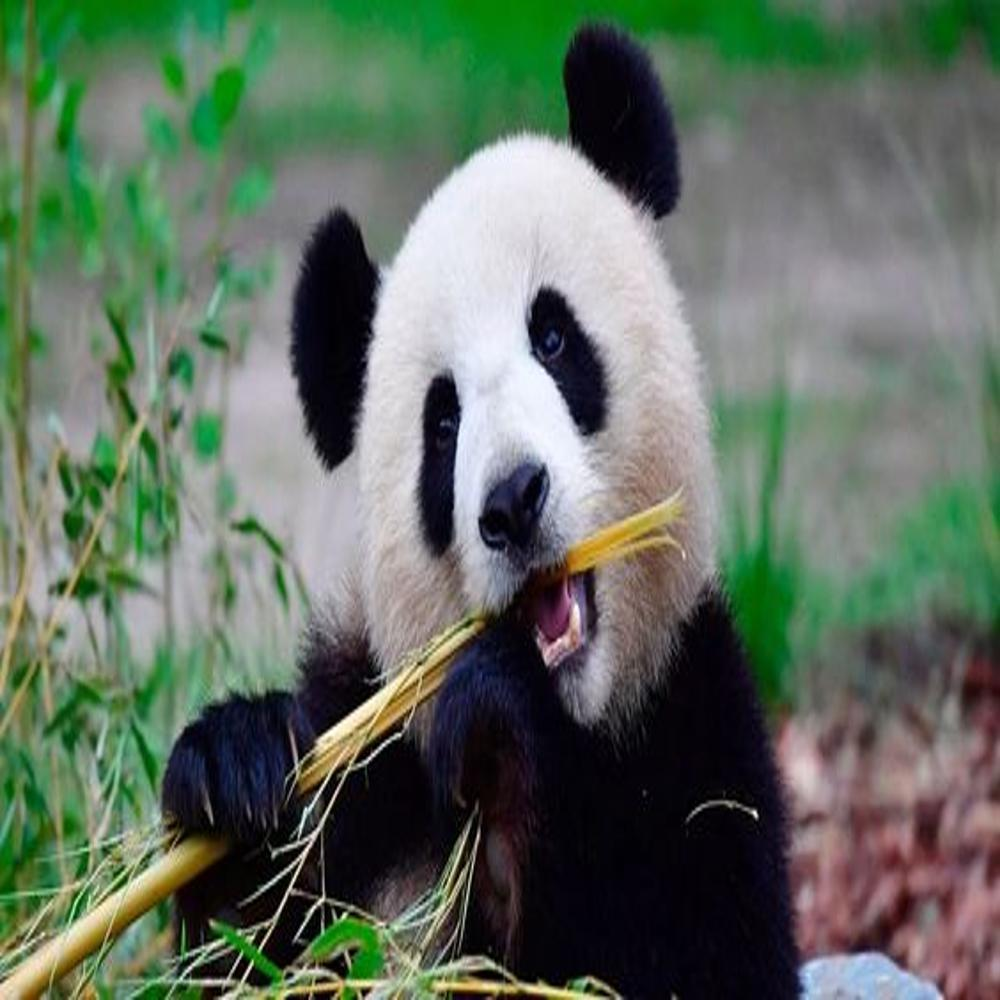panda: (168, 34, 806, 1000)
